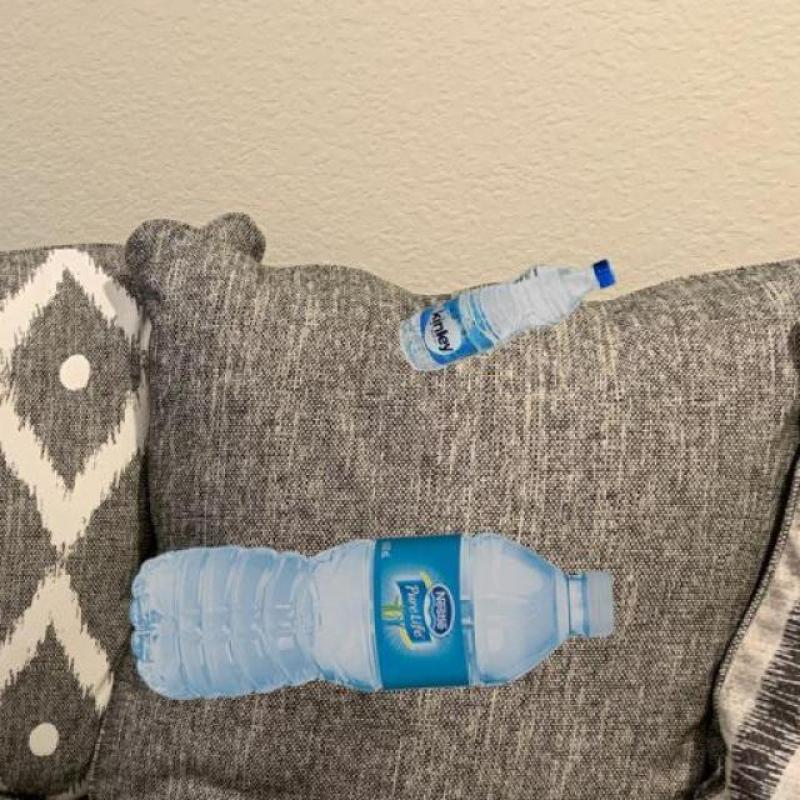botella: (128, 540, 620, 708), (400, 257, 618, 376)
